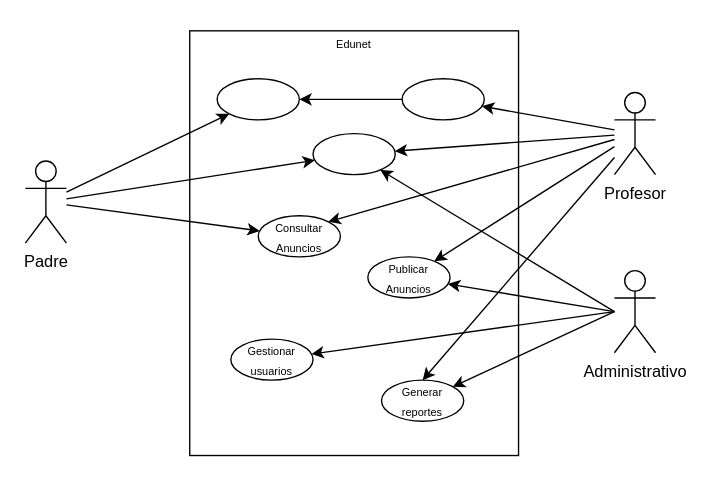
This 710x480 diagram has some shape labels left out. Here are the shapes that lost their labels. From the top down, the centre of each, then its label:
the point at 257,98: Consultar Notas
the point at 442,98: Registrar Notas
the point at 353,153: Iniciar sesion
